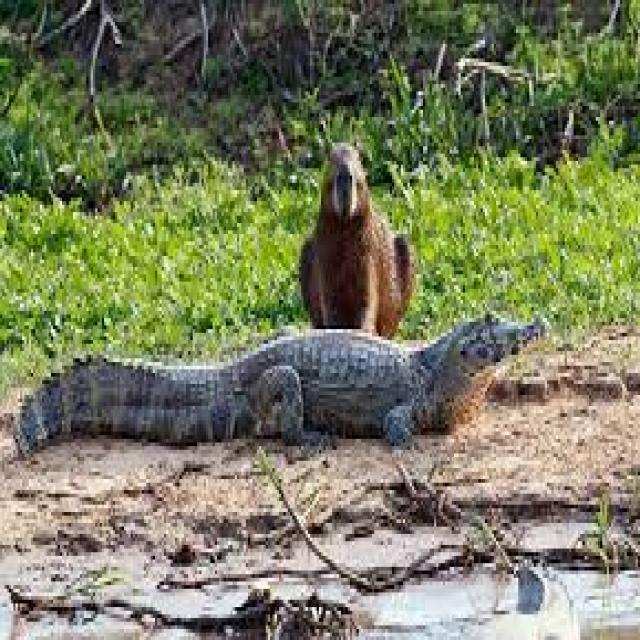capy: (299, 133, 412, 340)
